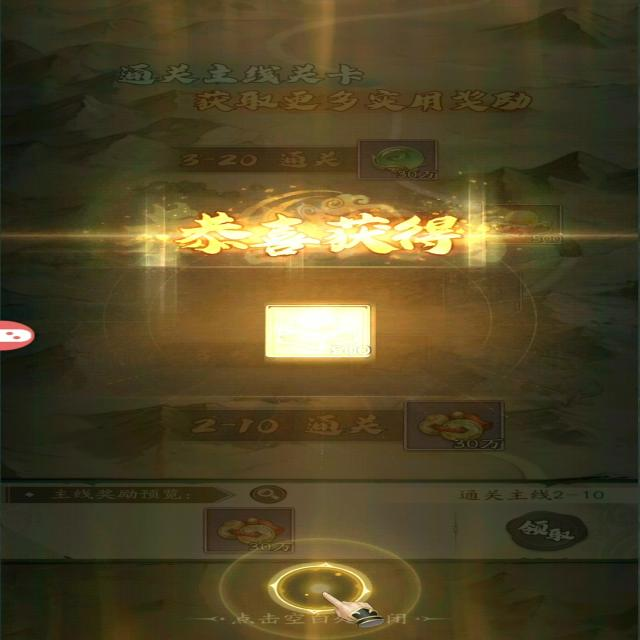hint-guide: (261, 556, 373, 618)
